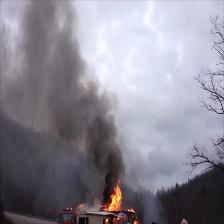fire: (108, 185, 123, 210)
smoke: (24, 5, 79, 134), (79, 89, 118, 175)
